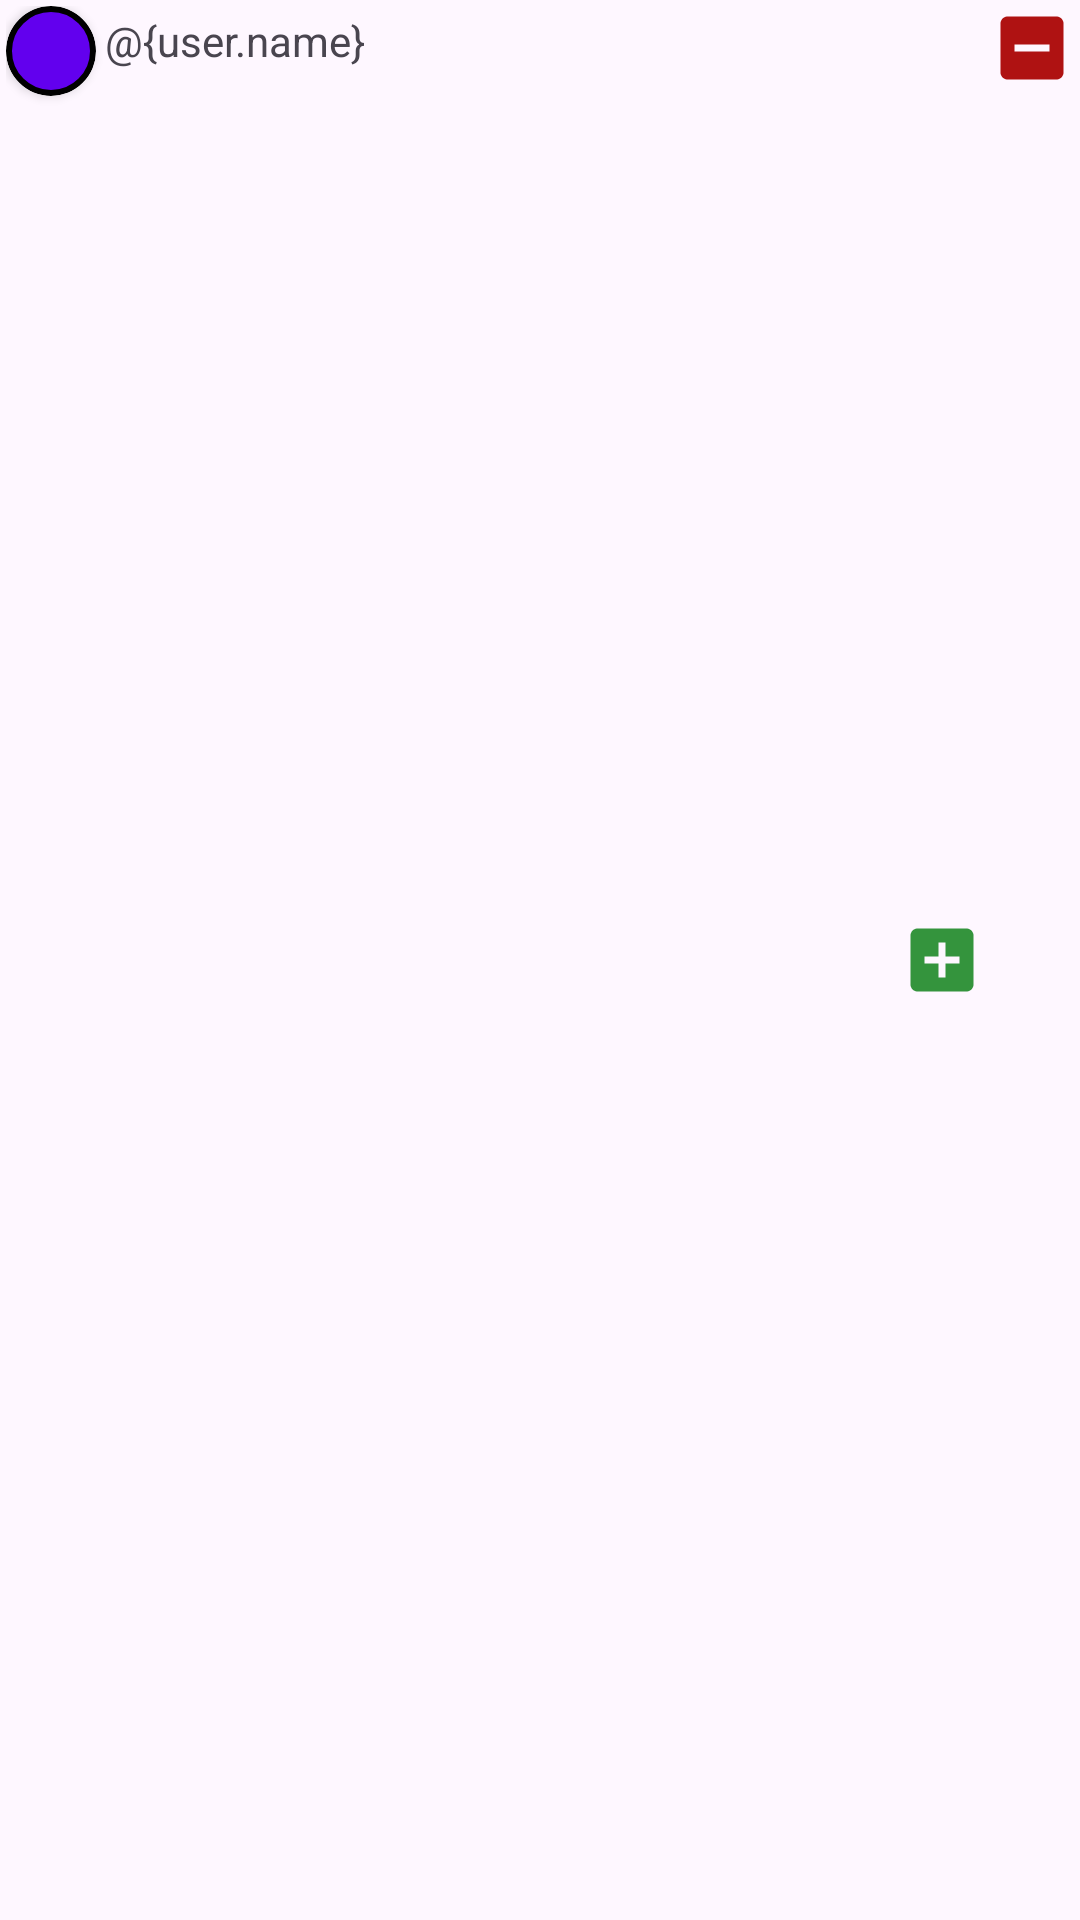

Where icons sit on this 1080 x 1920 app screen, as {"left": x1, "top": y1, "right": x2, "bottom": y2}:
addus: {"left": 910, "top": 928, "right": 974, "bottom": 992}
minusch: {"left": 1000, "top": 16, "right": 1064, "bottom": 80}
